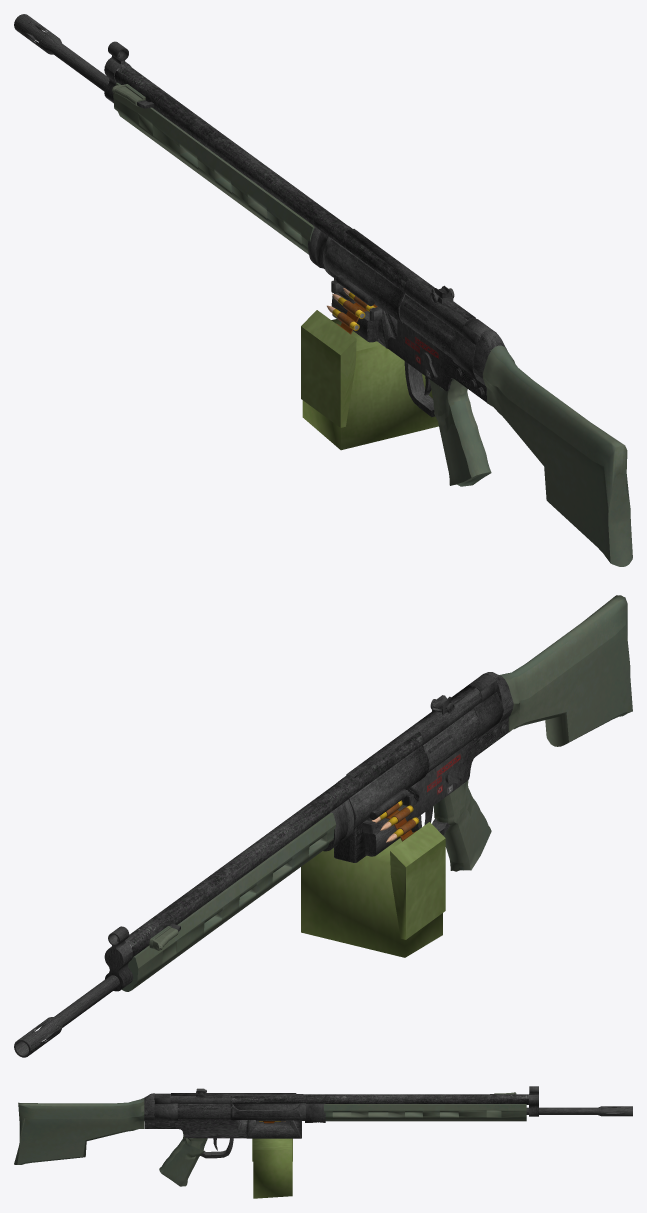
The model's file is hk21_world.fbx.
3 views of the same model, one above another, from view 1: azimuth 30°, elevation 25°; view 2: azimuth 150°, elevation 25°; view 3: azimuth 270°, elevation 25° (orthographic). The views are drawn at different scales.
Parts seen in each view (by area): view 1: pCube15, pCube21, pCylinder6, pCube3, pCube22, pCube7, pCylinder5, pCube6, pPipe1, pCylinder2, pCube16, pCylinder1 (+2 smaller); view 2: pCube15, pCube21, pCylinder6, pCube3, pCube22, pCube7, pCylinder5, pCube6, pPipe1, pCylinder2, pCube16, pCube5 (+5 smaller); view 3: pCube15, pCube3, pCylinder6, pCube21, pCube6, pCube7, pCube5, pCylinder5, pPipe1, pCylinder2, pCylinder1, pCylinder4 (+6 smaller).
Boxes of the visible parts, x1,y1,x2,y2 form: pCube15: (482, 345, 632, 566); pCube21: (302, 319, 438, 450); pCylinder6: (114, 64, 408, 291); pCube3: (113, 82, 314, 254); pCube22: (301, 310, 356, 427); pCube7: (429, 378, 491, 486); pCylinder5: (325, 238, 405, 323); pCube6: (387, 320, 486, 402); pPipe1: (14, 14, 109, 91); pCylinder2: (399, 293, 455, 357); pCube16: (345, 229, 475, 320); pCylinder1: (404, 279, 467, 334); pCube15: (499, 595, 632, 746); pCube21: (301, 832, 442, 957); pCylinder6: (125, 732, 423, 957); pCube3: (122, 813, 336, 991); pCube22: (390, 822, 445, 939); pCube7: (433, 781, 491, 871); pCylinder5: (348, 744, 429, 829); pCube6: (411, 717, 508, 818); pPipe1: (14, 975, 119, 1057); pCylinder2: (423, 708, 479, 772); pCube16: (346, 685, 476, 778); pCube5: (334, 781, 419, 862); pCube15: (14, 1098, 144, 1164); pCube3: (324, 1104, 526, 1121); pCylinder6: (230, 1094, 528, 1104); pCube21: (253, 1138, 292, 1198); pCube6: (144, 1119, 246, 1138); pCube7: (159, 1132, 207, 1186); pCube5: (236, 1120, 301, 1138); pCylinder5: (230, 1103, 305, 1120); pPipe1: (526, 1106, 632, 1116); pCylinder2: (178, 1104, 230, 1119); pCylinder1: (170, 1094, 230, 1103); pCylinder4: (154, 1103, 177, 1120).
Size of the model in its own units: 5.14 by 8.97 by 50.85.
